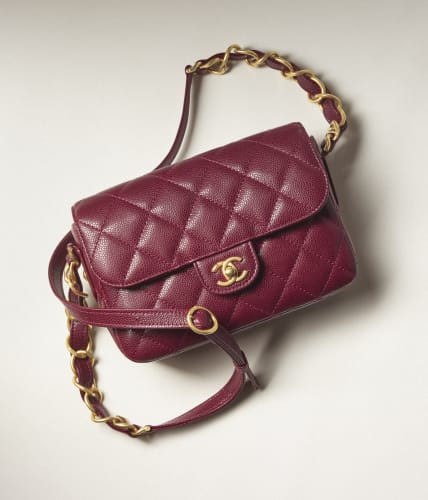channel: (78, 126, 375, 374), (193, 36, 340, 97), (201, 251, 250, 287)
